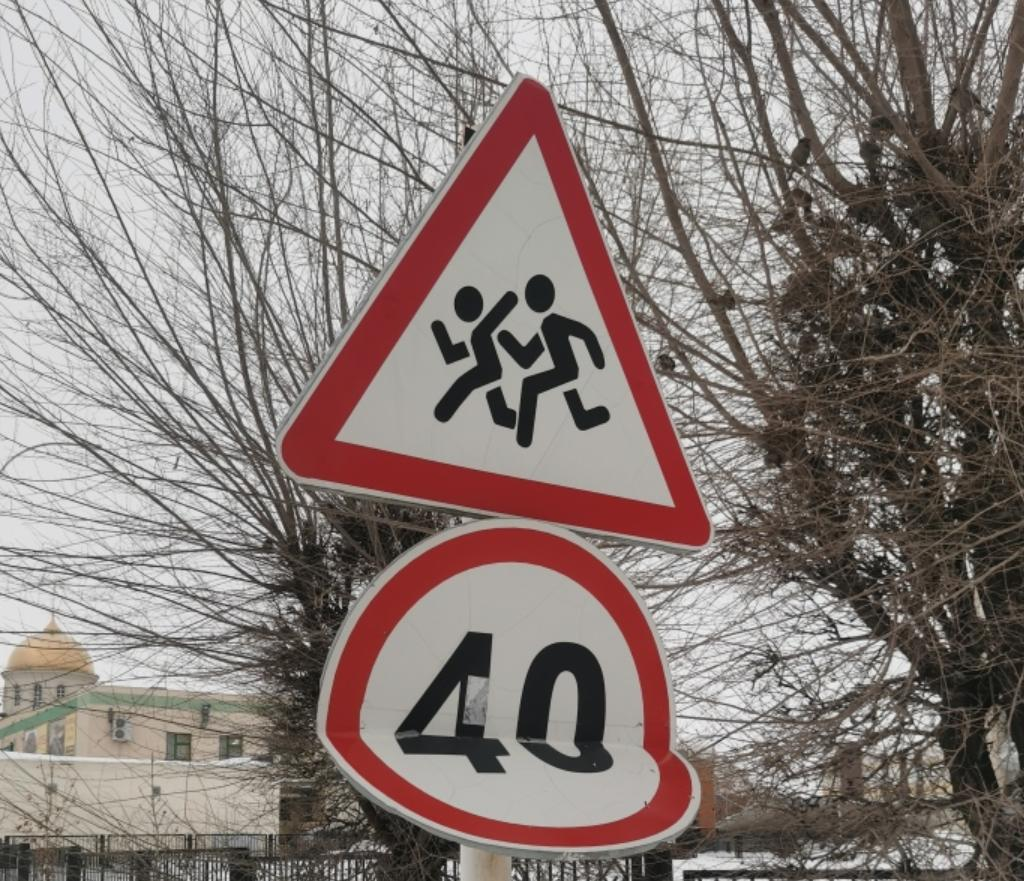obstructed_road_sign: (317, 525, 700, 856)
road_sign: (276, 71, 715, 552)
